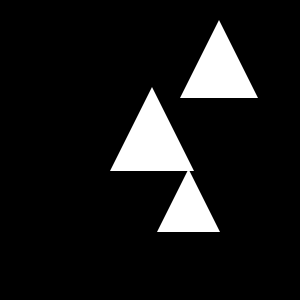triangle: (110, 87, 194, 171), (180, 20, 258, 98), (157, 169, 220, 232)
